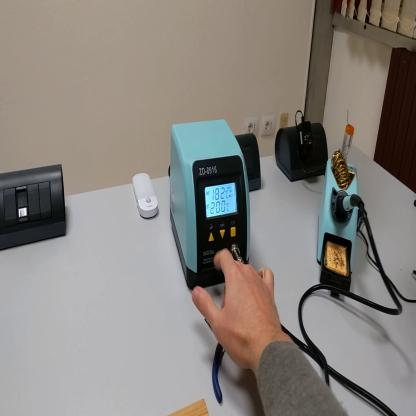hand: (193, 248, 282, 371)
pliers: (202, 317, 240, 403)
socket: (276, 125, 331, 183), (236, 135, 264, 194)
welder base: (317, 117, 363, 312), (336, 191, 363, 228)
welder station: (168, 116, 252, 289)
working area: (169, 397, 213, 416)
